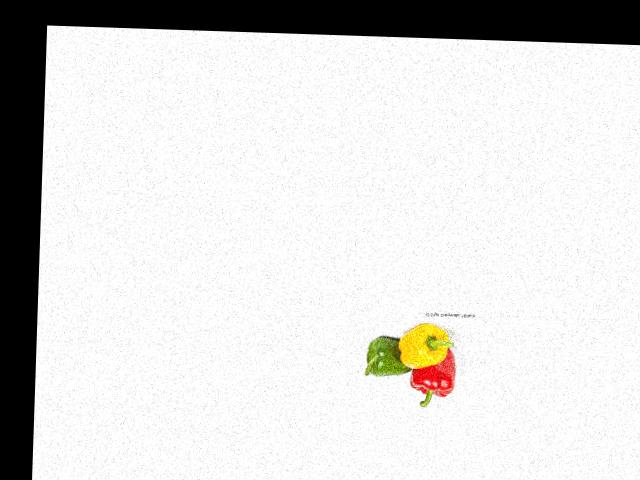bell_pepper: (408, 349, 460, 408)
